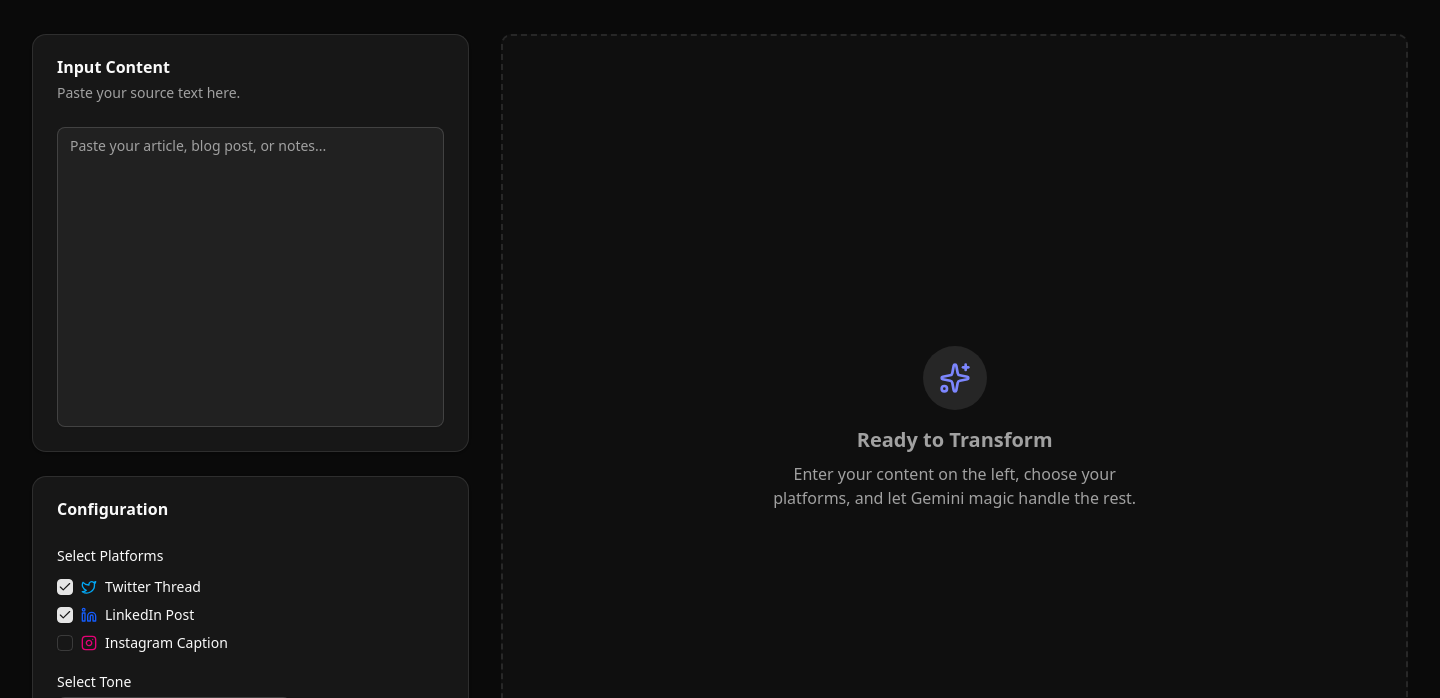
Test case: preserves an unselected successful platform when retrying only a failed platform
Type "Synthetic input" into the text box with placeholder "Paste your article, blog post, or notes..." at (251, 277), box top-left (57, 127), bottom-right (444, 427)
(page scrolled)
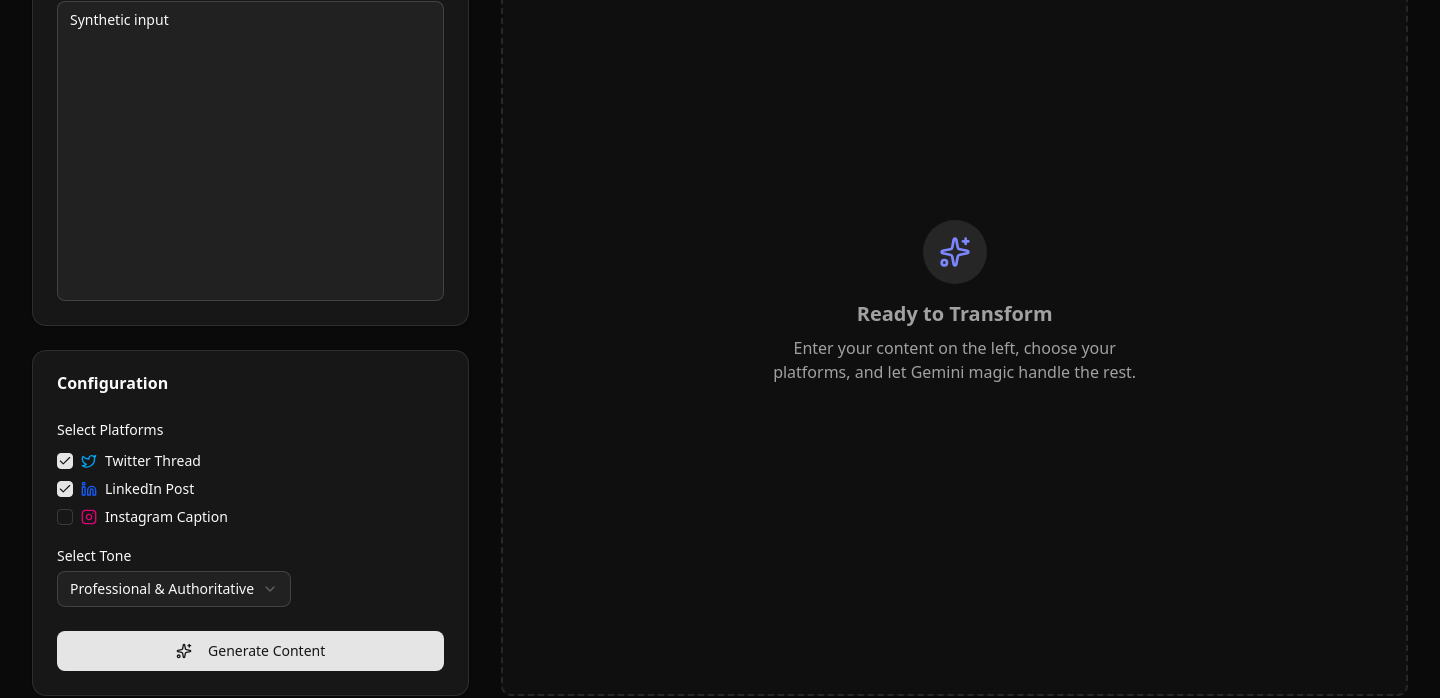
Click the button "Generate Content" at (251, 651), box top-left (57, 631), bottom-right (444, 671)
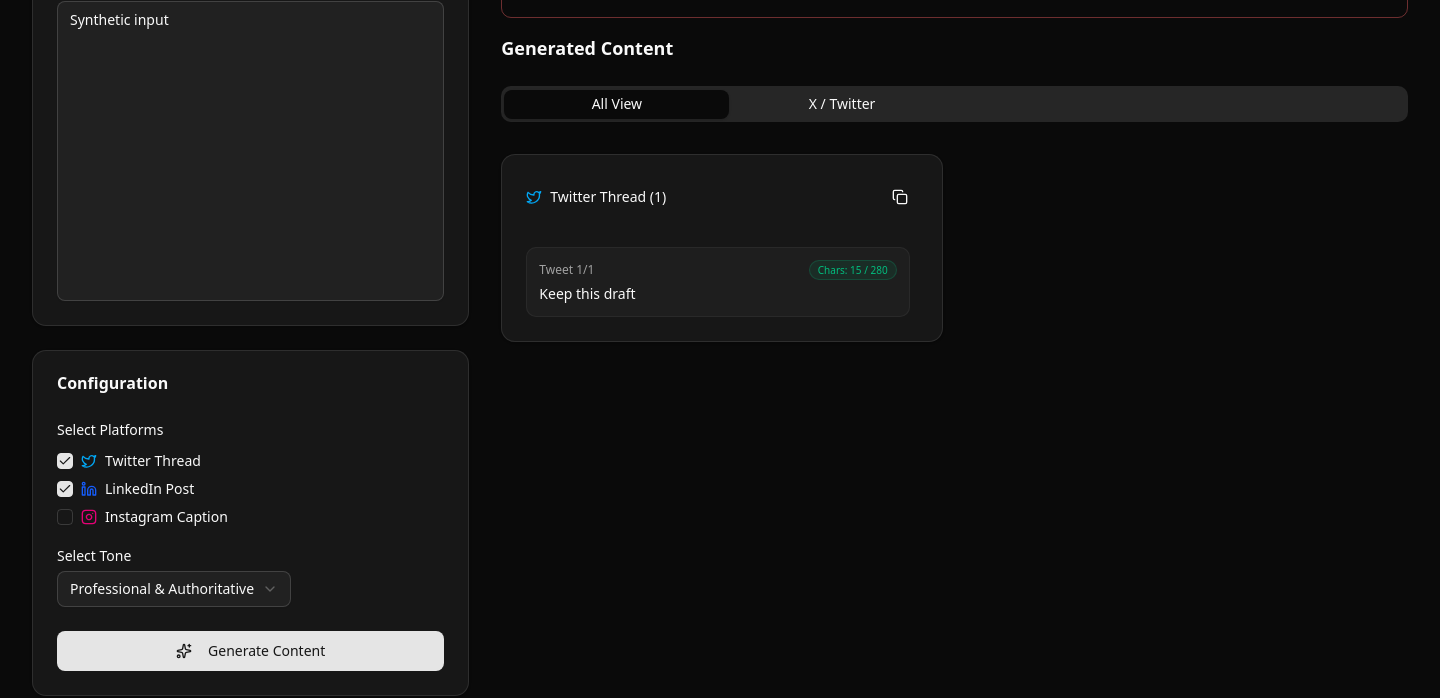
Result: the text "Keep this draft" is shown at top-left (539, 284), bottom-right (636, 303)
Click the 1st checkbox named "Twitter Thread" at (65, 461), box top-left (57, 453), bottom-right (73, 469)
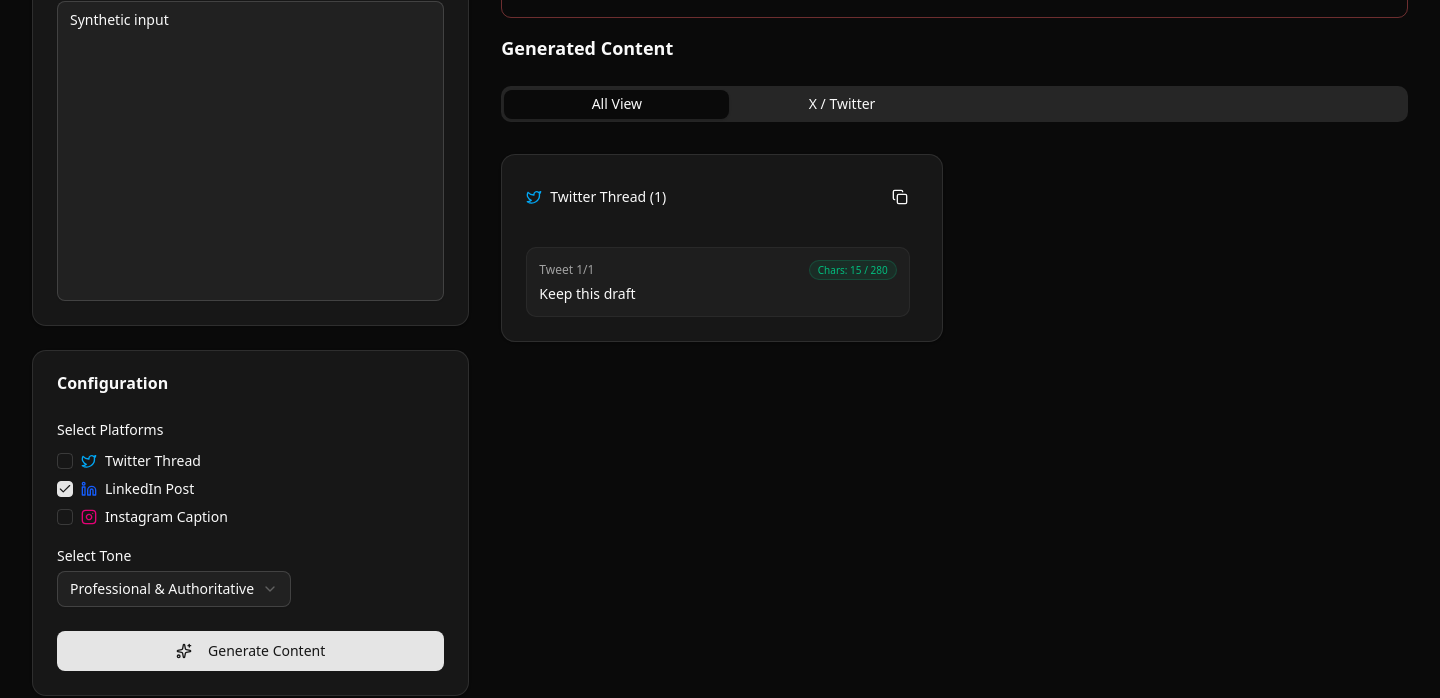
Click the button "Generate Content" at (251, 651), box top-left (57, 631), bottom-right (444, 671)
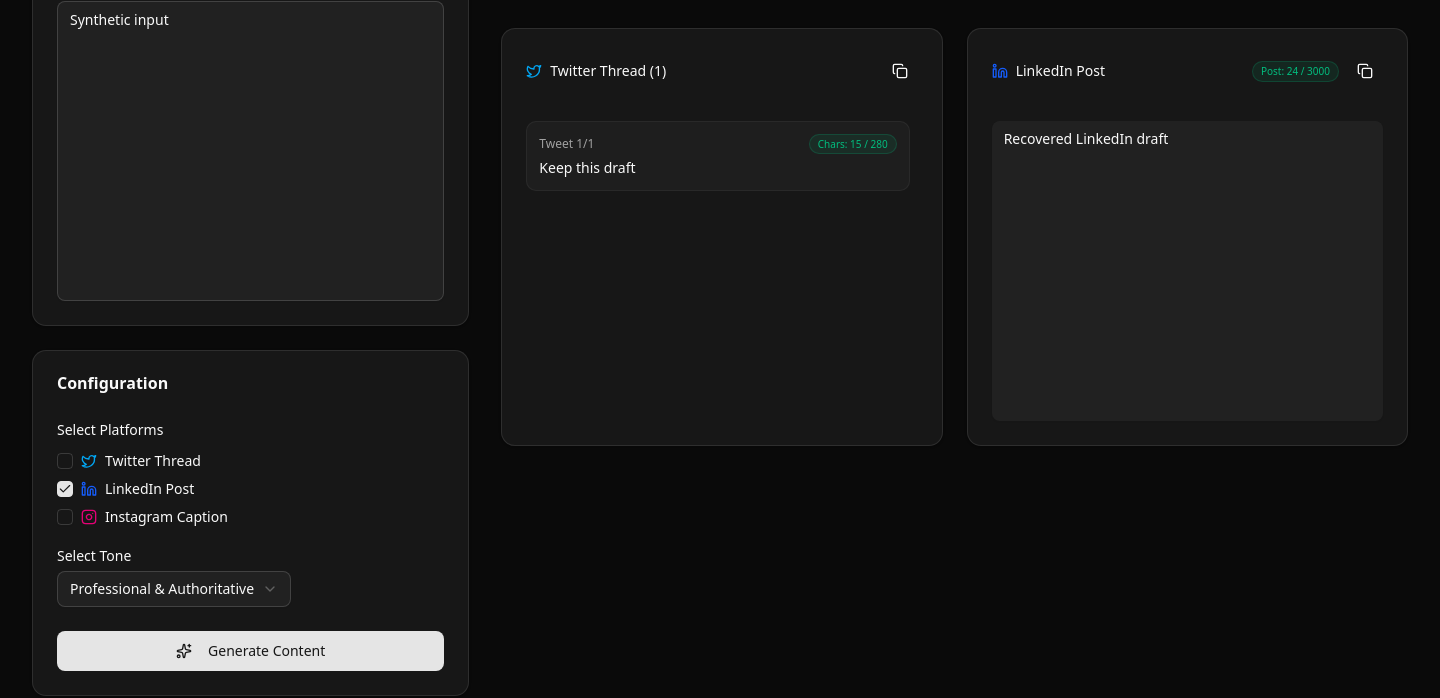
Result: the text "Keep this draft" is shown at top-left (539, 158), bottom-right (636, 177)
Result: the text box showing "Recovered LinkedIn draft" below "24" is shown at top-left (992, 121), bottom-right (1383, 421)
